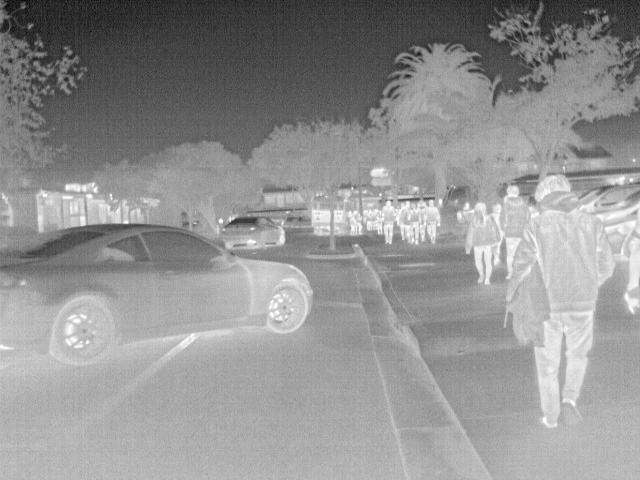car: (1, 222, 313, 368), (220, 214, 287, 248), (579, 180, 639, 216)
person: (508, 174, 614, 430), (496, 182, 530, 281), (465, 203, 501, 284), (624, 217, 639, 317), (421, 198, 442, 244), (381, 198, 398, 246), (397, 199, 413, 242), (406, 200, 421, 244), (350, 209, 364, 235)
